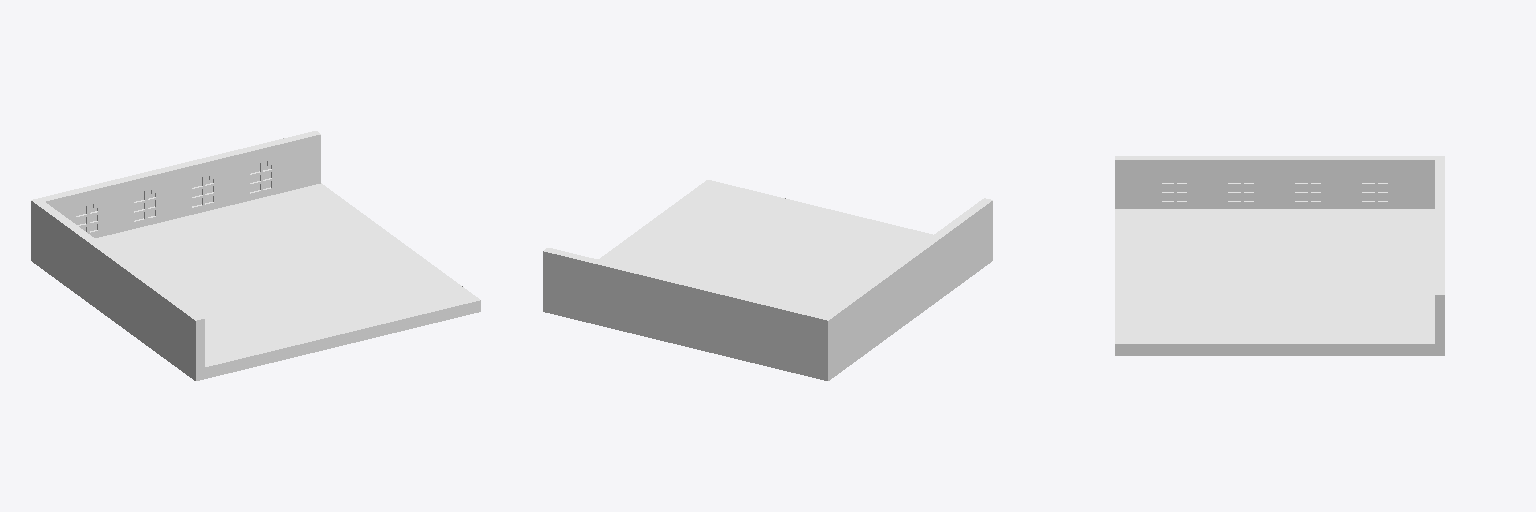
File: restaurant.obj
3 views of the same model, side by side, from view 1: azimuth 30°, elevation 25°; view 2: azimuth 150°, elevation 25°; view 3: azimuth 270°, elevation 25° (orthographic).
Parts seen in each view (by area): view 1: restaurant; view 2: restaurant; view 3: restaurant.
Boxes of the visible parts, x1,y1,x2,y2 form: restaurant: [31, 131, 480, 380]; restaurant: [543, 180, 992, 380]; restaurant: [1115, 156, 1444, 355].
Bounding box in the file's own units: 128 × 26 × 128.